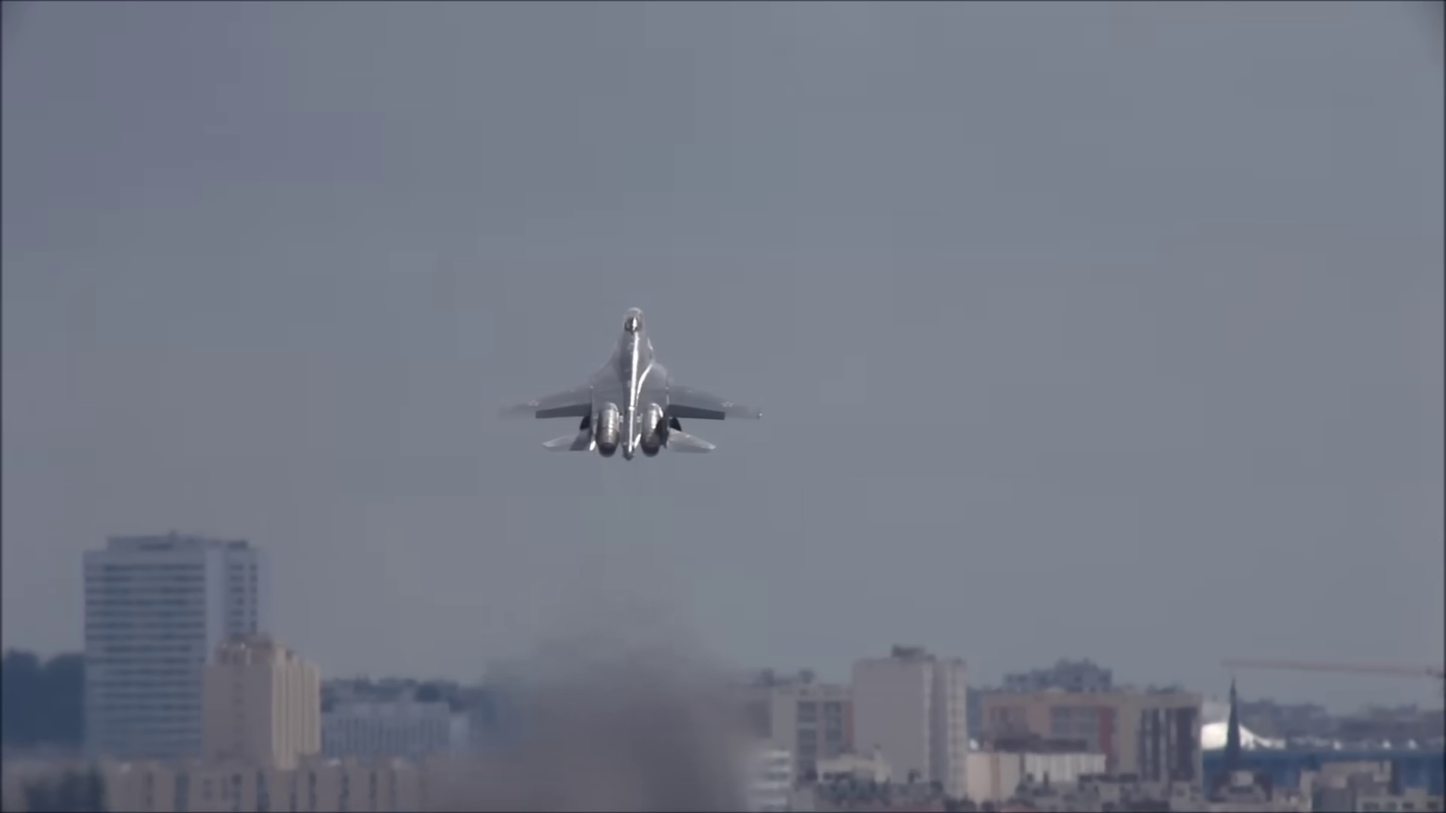Su35: (493, 289, 768, 475)
